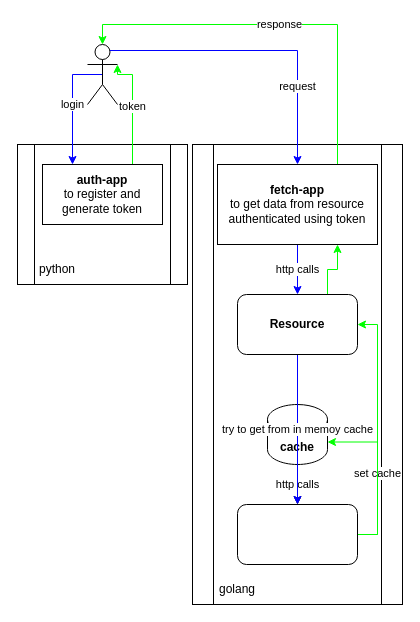
Some shapes in this 420 by 622 pixel diagram are drawn without their labels. The centre of each missing label's shape, as x and y in pixels:
Actor: [102,74]
currency converter: [297,534]
